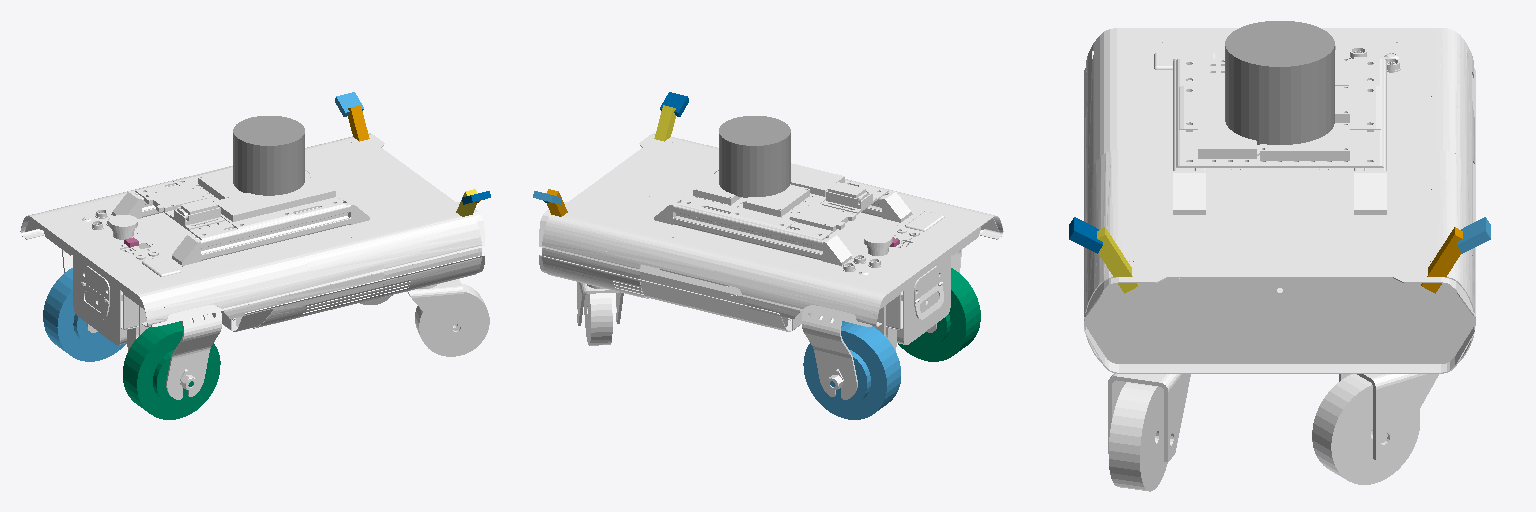
The robot description file, URDF, robot "neor":
<?xml version="1.0" encoding="utf-8"?>
<!-- This URDF was automatically created by SolidWorks to URDF Exporter! Originally created by [author] ([email redacted]) 
     Commit Version: 1.5.1-0-g916b5db  Build Version: 1.5.7152.31018
     For more information, please see http://wiki.ros.org/sw_urdf_exporter -->
<robot
  name="neor">
  <link 
    name="base_link">
    <inertial>
      <origin
        xyz="0.167879507365628 -0.00359252647980702 0.119298610168138"
        rpy="0 0 0" />
      <mass
        value="1.99769813489116" />
      <inertia
        ixx="0.00884194890576968"
        ixy="-2.85763205109085E-07"
        ixz="1.13692269308844E-06"
        iyy="0.0122849475045731"
        iyz="2.62546849263556E-05"
        izz="0.0198557145704335" />
    </inertial>
    <visual>
      <origin
        xyz="0 0 0"
        rpy="0 0 0" />
      <geometry>
        <mesh
          filename="package://neor/meshes/base_link.STL" />
      </geometry>
      <material
        name="">
        <color
          rgba="1 1 1 1" />
      </material>
    </visual>
    <collision>
      <origin
        xyz="0 0 0"
        rpy="0 0 0" />
      <geometry>
        <mesh
          filename="package://neor/meshes/base_link.STL" />
      </geometry>
    </collision>
  </link>
  <link
    name="left_wheel_link">
    <inertial>
      <origin
        xyz="0 2.77555756156289E-17 6.93889390390723E-18"
        rpy="0 0 0" />
      <mass
        value="5.42406230688666" />
      <inertia
        ixx="0.00666461186501377"
        ixy="-4.34780728173011E-17"
        ixz="-3.46065314223795E-08"
        iyy="0.0108754737237616"
        iyz="1.48898597957356E-17"
        izz="0.00666462264232009" />
    </inertial>
    <visual>
      <origin
        xyz="0 0 0"
        rpy="0 0 0" />
      <geometry>
        <mesh
          filename="package://neor/meshes/left_wheel_link.STL" />
      </geometry>

    </visual>
    <collision>
      <origin
        xyz="0 0 0"
        rpy="0 0 0" />
      <geometry>
        <mesh
          filename="package://neor/meshes/left_wheel_link.STL" />
      </geometry>
    </collision>
  </link>
  <joint
    name="left_wheel_joint"
    type="continuous">
    <origin
      xyz="0 0.11025 0"
      rpy="0 0 0" />
    <parent
      link="base_link" />
    <child
      link="left_wheel_link" />
    <axis
      xyz="0 1 0" />
    <limit
      lower="-3.14"
      upper="3.14"
      effort="0"
      velocity="0" />
  </joint>
  <link
    name="right_wheel_Link">
    <inertial>
      <origin
        xyz="1.11022302462516E-16 0 0"
        rpy="0 0 0" />
      <mass
        value="5.42406230688665" />
      <inertia
        ixx="0.00666458263690274"
        ixy="-4.33823931917284E-17"
        ixz="-5.3225217388757E-09"
        iyy="0.0108754737237616"
        iyz="1.47257298016766E-17"
        izz="0.0066646518704311" />
    </inertial>
    <visual>
      <origin
        xyz="0 0 0"
        rpy="0 0 0" />
      <geometry>
        <mesh
          filename="package://neor/meshes/right_wheel_Link.STL" />
      </geometry>
    </visual>
    <collision>
      <origin
        xyz="0 0 0"
        rpy="0 0 0" />
      <geometry>
        <mesh
          filename="package://neor/meshes/right_wheel_Link.STL" />
      </geometry>
    </collision>
  </link>
  <joint
    name="right_wheel_joint"
    type="continuous">
    <origin
      xyz="0 -0.11025 0"
      rpy="0 0 0" />
    <parent
      link="base_link" />
    <child
      link="right_wheel_Link" />
    <axis
      xyz="0 1 0" />
    <limit
      lower="-3.14"
      upper="3.14"
      effort="0"
      velocity="0" />
  </joint>
  <link
    name="left_caster_Link">
    <inertial>
      <origin
        xyz="0.0115894835490932 -0.0160834240912808 -0.0271810314838372"
        rpy="0 0 0" />
      <mass
        value="0.0457759696915572" />
      <inertia
        ixx="4.32568497674313E-05"
        ixy="-2.58020492610068E-06"
        ixz="4.86678404730977E-06"
        iyy="4.49782650453277E-05"
        iyz="-6.75393340776466E-06"
        izz="4.36074022403523E-05" />
    </inertial>
    <visual>
      <origin
        xyz="0 0 0"
        rpy="0 0 0" />
      <geometry>
        <mesh
          filename="package://neor/meshes/left_caster_Link.STL" />
      </geometry>
      <material
        name="">
        <color
          rgba="1 1 1 1" />
      </material>
    </visual>
    <collision>
      <origin
        xyz="0 0 0"
        rpy="0 0 0" />
      <geometry>
        <mesh
          filename="package://neor/meshes/left_caster_Link.STL" />
      </geometry>
    </collision>
  </link>
  <joint
    name="left_caster_joint"
    type="continuous">
    <origin
      xyz="0.4006 0.1125 0.0465"
      rpy="0 0 0" />
    <parent
      link="base_link" />
    <child
      link="left_caster_Link" />
    <axis
      xyz="0 0 -1" />
    <limit
      lower="-3.14"
      upper="3.14"
      effort="0"
      velocity="0" />
  </joint>
  <link
    name="left_caster_wheel_Link">
    <inertial>
      <origin
        xyz="0 1.38777878078145E-17 0"
        rpy="0 0 0" />
      <mass
        value="0.232226528953357" />
      <inertia
        ixx="0.000250095566342319"
        ixy="6.15717679394067E-05"
        ixz="2.21629952945565E-19"
        iyy="0.000209016281398468"
        iyz="1.5657790917171E-19"
        izz="0.00016464860902793" />
    </inertial>
    <visual>
      <origin
        xyz="0 0 0"
        rpy="0 0 0" />
      <geometry>
        <mesh
          filename="package://neor/meshes/left_caster_wheel_Link.STL" />
      </geometry>
      <material
        name="">
        <color
          rgba="1 1 1 1" />
      </material>
    </visual>
    <collision>
      <origin
        xyz="0 0 0"
        rpy="0 0 0" />
      <geometry>
        <mesh
          filename="package://neor/meshes/left_caster_wheel_Link.STL" />
      </geometry>
    </collision>
  </link>
  <joint
    name="left_caster_wheel_joint"
    type="continuous">
    <origin
      xyz="0.024532 -0.034044 -0.066"
      rpy="0 0 0" />
    <parent
      link="left_caster_Link" />
    <child
      link="left_caster_wheel_Link" />
    <axis
      xyz="-0.81131 -0.58462 0" />
  </joint>
  <link
    name="right_caster_Link">
    <inertial>
      <origin
        xyz="0.0188041520422844 -0.00627670432990625 -0.0271810284056899"
        rpy="0 0 0" />
      <mass
        value="0.0457759516780475" />
      <inertia
        ixx="4.62921637504073E-05"
        ixy="-1.63379166334245E-06"
        ixz="7.89645340975582E-06"
        iyy="4.194292119082E-05"
        iyz="-2.6357777730359E-06"
        izz="4.36073573670601E-05" />
    </inertial>
    <visual>
      <origin
        xyz="0 0 0"
        rpy="0 0 0" />
      <geometry>
        <mesh
          filename="package://neor/meshes/right_caster_Link.STL" />
      </geometry>
      <material
        name="">
        <color
          rgba="1 1 1 1" />
      </material>
    </visual>
    <collision>
      <origin
        xyz="0 0 0"
        rpy="0 0 0" />
      <geometry>
        <mesh
          filename="package://neor/meshes/right_caster_Link.STL" />
      </geometry>
    </collision>
  </link>
  <joint
    name="right_caster_joint"
    type="continuous">
    <origin
      xyz="0.4006 -0.1125 0.0465"
      rpy="0 0 0" />
    <parent
      link="base_link" />
    <child
      link="right_caster_Link" />
    <axis
      xyz="0 0 -1" />
    <limit
      lower="-3.14"
      upper="3.14"
      effort="0"
      velocity="0" />
  </joint>
  <link
    name="right_caster_wheel_Link">
    <inertial>
      <origin
        xyz="-5.55111512312578E-17 0 0"
        rpy="0 0 0" />
      <mass
        value="0.232226528953358" />
      <inertia
        ixx="0.00017766232401311"
        ixy="3.89873545385007E-05"
        ixz="1.36110275740017E-19"
        iyy="0.000281449523727678"
        iyz="4.07814885635416E-19"
        izz="0.000164648609027931" />
    </inertial>
    <visual>
      <origin
        xyz="0 0 0"
        rpy="0 0 0" />
      <geometry>
        <mesh
          filename="package://neor/meshes/right_caster_wheel_Link.STL" />
      </geometry>
      <material
        name="">
        <color
          rgba="1 1 1 1" />
      </material>
    </visual>
    <collision>
      <origin
        xyz="0 0 0"
        rpy="0 0 0" />
      <geometry>
        <mesh
          filename="package://neor/meshes/right_caster_wheel_Link.STL" />
      </geometry>
    </collision>
  </link>
  <joint
    name="right_caster_wheel_joint"
    type="continuous">
    <origin
      xyz="0.039803 -0.013286 -0.066"
      rpy="0 0 0" />
    <parent
      link="right_caster_Link" />
    <child
      link="right_caster_wheel_Link" />
    <axis
      xyz="-0.31662 -0.94855 0" />
  </joint>
 
  <!--  手动添加激光雷达模型 -->
  <link name="laser_link">
    <visual>
      <geometry>
        <cylinder length="0.08" radius="0.05"/>
      </geometry>
    </visual>
  </link>
  <joint name ="2Dlaser_joints" type="fixed">
    <origin xyz="0.22 0.0 0.23" rpy="0.0 0.0 0.0"/>
    <parent link="base_link"/>
    <child link="laser_link"/>
  </joint>
<!--*********************************************************************-->
 
 <!--  手动添加摄像头模型 左侧   -->
<link name="L_camerabase_link">
    <visual>
      <geometry>
        <box size="0.015 0.0165 0.06"/>
      </geometry>
    </visual>
  </link>
  <joint name ="L_camerabase_joints" type="fixed">
    <origin xyz="0.45 0.15 0.16" rpy="0.0 0.53 1.57"/>
    <parent link="base_link"/>
    <child link="L_camerabase_link"/>
  </joint>

  <link name="L_camera0_link">
    <visual>
      <geometry>
        <box size="0.01 0.03 0.03"/>
      </geometry>
    </visual>
  </link>
  <joint name ="L_camera0_joints" type="fixed">
    <origin xyz="0.01 0.0 0.035" rpy="0.0 0.53 0.0"/>
    <parent link="L_camerabase_link"/>
    <child link="L_camera0_link"/>
  </joint>
  <link name="L_camera_link">
    <visual>
      <geometry>
        <sphere radius="0.005" />
      </geometry>
    </visual>
  </link>
  <joint name ="L_camera_joints" type="fixed">
    <origin xyz="0.003 0.0 0.0" rpy="0.0 0.0 0.0"/>
    <parent link="L_camera0_link"/>
    <child link="L_camera_link"/>
  </joint>
<!--*********************************************************************-->

 <!--  手动添加摄像头模型 右侧   -->
<link name="R_camerabase_link">
    <visual>
      <geometry>
        <box size="0.015 0.0165 0.06"/>
      </geometry>
    </visual>
  </link>
  <joint name ="R_camerabase_joints" type="fixed">
    <origin xyz="0.45 -0.15 0.16" rpy="0.0 0.53 -1.57"/>
    <parent link="base_link"/>
    <child link="R_camerabase_link"/>
  </joint>

  <link name="R_camera0_link">
    <visual>
      <geometry>
        <box size="0.01 0.03 0.03"/>
      </geometry>
    </visual>
  </link>
  <joint name ="R_camera0_joints" type="fixed">
    <origin xyz="0.01 0.0 0.035" rpy="0.0 0.53 0.0"/>
    <parent link="R_camerabase_link"/>
    <child link="R_camera0_link"/>
  </joint>
  <link name="R_camera_link">
    <visual>
      <geometry>
        <sphere radius="0.005" />
      </geometry>
    </visual>
  </link>
  <joint name ="R_camera_joints" type="fixed">
    <origin xyz="0.003 0.0 0.0" rpy="0.0 0.0 0.0"/>
    <parent link="R_camera0_link"/>
    <child link="R_camera_link"/>
  </joint>
<!--*********************************************************************-->

  <!--  手动添加imu模型   -->
  <link name="imu_link">
    <visual>
      <geometry>
        <box size="0.015 0.015 0.007"/>
      </geometry>
    </visual>
  </link>
  <joint name ="imu_joints" type="fixed">
    <origin xyz="0.0 0.0 0.15" rpy="0.0 0.0 0.0"/>
    <parent link="base_link"/>
    <child link="imu_link"/>
  </joint>
<!--*********************************************************************-->

 <!--为link配置颜色-->
  <gazebo reference="base_link">
    <material>Gazebo/DarkYellow</material>      <!--  (Yellow) (YellowGlow) (YellowTransparent)  (ZincYellow) (Yellow) (DarkYellow) -->
  </gazebo>

  <gazebo reference="right_caster_Link">
    <material>Gazebo/Black</material>
  </gazebo>

  <gazebo reference="left_caster_Link">
    <material>Gazebo/Black</material>
  </gazebo>

  <gazebo reference="left_caster_wheel_Link">
    <material>Gazebo/Grey</material>
  </gazebo>

  <gazebo reference="right_caster_wheel_Link">
    <material>Gazebo/Grey</material>
  </gazebo>
  
  <gazebo reference="left_wheel_link">
    <material>Gazebo/Grey</material>
  </gazebo>

  <gazebo reference="right_wheel_Link">
    <material>Gazebo/Grey</material>
  </gazebo>

  <gazebo reference="laser_link">
    <material>Gazebo/Black</material>
  </gazebo>

  <!--    L camera link gazebo color -->
  <gazebo reference="L_camerabase_link">   
    <material>Gazebo/DarkYellow</material>
  </gazebo>

  <gazebo reference="L_camera0_link">   
    <material>Gazebo/SkyBlue</material>
  </gazebo>

  <gazebo reference="L_camera_link">   
    <material>Gazebo/Black</material>
  </gazebo>
  <!--    L camera link gazebo color -->

  <!-- R camera Link gazebo color -->
  <gazebo reference="R_camerabase_link">   
    <material>Gazebo/DarkYellow</material>
  </gazebo>

  <gazebo reference="R_camera0_link">   
    <material>Gazebo/SkyBlue</material>
  </gazebo>

  <gazebo reference="R_camera_link">   
    <material>Gazebo/Black</material>
  </gazebo>
  <!-- R camera Link gazebo color -->

  <gazebo reference="imu_link">
    <material>Gazebo/SkyBlue</material>
  </gazebo>
<!--*********************************************************************-->

<!--为机器人的关节 joint 添加传动机构-->>
  <transmission name="simple_trans_left_Back">
    <type>transmission_interface/SimpleTransmission</type>
    <joint name="left_wheel_joint">
      <hardwareInterface>EffortJointInterface</hardwareInterface>
    </joint>
    <actuator name="left_wheel_motor">
      <mechanicalReduction>50</mechanicalReduction>
      <hardwareInterface>EffortJointInterface</hardwareInterface>
    </actuator>
  </transmission>

  <transmission name="simple_trans_right_Back">
    <type>transmission_interface/SimpleTransmission</type>
    <joint name="right_wheel_jont">
      <hardwareInterface>EffortJointInterface</hardwareInterface>
    </joint>
    <actuator name="right_wheel_motor">
      <mechanicalReduction>50</mechanicalReduction>
      <hardwareInterface>EffortJointInterface</hardwareInterface>
    </actuator>
  </transmission>
<!--*********************************************************************-->

<!--为机器人添加差速控制插件-->  
  <gazebo>
    <plugin name="differential_drive_controller_left" filename="libgazebo_ros_diff_drive.so">
      <rosDebugLevel>Debug</rosDebugLevel>
      <publishWheelTF>true</publishWheelTF>
      <robotNamespace>/</robotNamespace>
      <publishTf>10</publishTf>
      <publishWheelJointState>true</publishWheelJointState>
      <alwaysOn>true</alwaysOn>
      <updateRate>100.0</updateRate>
      <legacyMode>true</legacyMode>
      <leftJoint>left_wheel_joint</leftJoint>
      <rightJoint>right_wheel_joint</rightJoint>
      <wheelSeparation>0.24</wheelSeparation>
      <wheelDiameter>0.14</wheelDiameter>
      <publishOdomTF>true</publishOdomTF>
      <wheelTorque>30</wheelTorque>
      <wheelAcceleration>0.15</wheelAcceleration>
      <commandTopic>cmd_vel</commandTopic>
      <odometryFrame>odom</odometryFrame> 
      <odometryTopic>odom</odometryTopic> 
      <odometrySource>1</odometrySource>
      <robotBaseFrame>base_link</robotBaseFrame>
    </plugin>
  </gazebo> 
<!--*********************************************************************-->


  <!-- 手动添加camera仿真插件  L-->
  <gazebo reference="L_camera_link">
    <sensor type="camera" name="L_camera">
      <update_rate>30.0</update_rate>
      <camera name="head">
        <horizontal_fov>2.0</horizontal_fov>
        <image>
          <width>640</width>
          <height>480</height>
          <format>R8G8B8</format>
        </image>
        <clip>
          <near>0.02</near>
          <far>50</far>
        </clip>
        <noise>
          <type>gaussian</type>
          <!-- Noise is sampled independently per pixel on each frame.
               That pixel's noise value is added to each of its color
               channels, which at that point lie in the range [0,1]. -->
          <mean>0.0</mean>
          <stddev>0.007</stddev>
        </noise>
      </camera>
      <plugin name="camera_controller" filename="libgazebo_ros_camera.so">
        <alwaysOn>true</alwaysOn>
        <updateRate>0.0</updateRate>
        <cameraName>L_camera</cameraName>
        <imageTopicName>L_image_raw</imageTopicName>
        <cameraInfoTopicName>L_camera_info</cameraInfoTopicName>
        <frameName>L_camera__link</frameName>
        <hackBaseline>0.07</hackBaseline>
        <distortionK1>0.0</distortionK1>
        <distortionK2>0.0</distortionK2>
        <distortionK3>0.0</distortionK3>
        <distortionT1>0.0</distortionT1>
        <distortionT2>0.0</distortionT2>
      </plugin>
    </sensor>
  </gazebo>
<!--*********************************************************************-->
  <!-- 手动添加camera仿真插件  R-->
  <gazebo reference="R_camera_link">
    <sensor type="camera" name="R_camera">
      <update_rate>30.0</update_rate>
      <camera name="head">
        <horizontal_fov>2.0</horizontal_fov>
        <image>
          <width>640</width>
          <height>480</height>
          <format>R8G8B8</format>
        </image>
        <clip>
          <near>0.02</near>
          <far>50</far>
        </clip>
        <noise>
          <type>gaussian</type>
          <!-- Noise is sampled independently per pixel on each frame.
               That pixel's noise value is added to each of its color
               channels, which at that point lie in the range [0,1]. -->
          <mean>0.0</mean>
          <stddev>0.007</stddev>
        </noise>
      </camera>
      <plugin name="camera_controller" filename="libgazebo_ros_camera.so">
        <alwaysOn>true</alwaysOn>
        <updateRate>0.0</updateRate>
        <cameraName>R_camera</cameraName>
        <imageTopicName>R_image_raw</imageTopicName>
        <cameraInfoTopicName>R_camera_info</cameraInfoTopicName>
        <frameName>R_camera_link</frameName>
        <hackBaseline>0.07</hackBaseline>
        <distortionK1>0.0</distortionK1>
        <distortionK2>0.0</distortionK2>
        <distortionK3>0.0</distortionK3>
        <distortionT1>0.0</distortionT1>
        <distortionT2>0.0</distortionT2>
      </plugin>
    </sensor>
  </gazebo>
<!--*********************************************************************-->

  <!-- 手动添加深激光雷达仿真插件  -->
  <gazebo reference="laser_link">
    <sensor type="ray" name="head_laser_sensor">
      <pose>0 0 0 0 0 0</pose>
      <visualize>false</visualize>
      <update_rate>40</update_rate>
      <ray>
        <scan>
          <horizontal>
            <samples>720</samples>
            <resolution>1</resolution>
            <min_angle>-1.570796</min_angle>
            <max_angle>1.570796</max_angle>
          </horizontal>
        </scan>
        <range>
          <min>0.10</min>
          <max>30.0</max>
          <resolution>0.01</resolution>
        </range>
        <noise>
          <type>gaussian</type>
          <!-- Noise parameters based on published spec for Hokuyo laser
               achieving "+-30mm" accuracy at range < 10m.  A mean of 0.0m and
               stddev of 0.01m will put 99.7% of samples within 0.03m of the true
               reading. -->
          <mean>0.0</mean>
          <stddev>0.01</stddev>
        </noise>
      </ray>
      <plugin name="gazebo_ros_head_laser_controller" filename="libgazebo_ros_laser.so">
        <topicName>scan</topicName>
        <frameName>laser_link</frameName>
      </plugin>
    </sensor>
  </gazebo>
  
<!--*********************************************************************-->


  <!-- 手动添加imu仿真插件  -->
  <gazebo reference="imu_link">
    <gravity>true</gravity>
    <sensor name="imu_sensor" type="imu">
      <always_on>true</always_on>
      <update_rate>100</update_rate>
      <visualize>true</visualize>
      <topic>__default_topic__</topic>
      <plugin filename="libgazebo_ros_imu_sensor.so" name="imu_plugin">
        <topicName>imu</topicName>
        <bodyName>imu_link</bodyName>
        <updateRateHZ>10.0</updateRateHZ>
        <gaussianNoise>0.0</gaussianNoise>
        <xyzOffset>0 0 0</xyzOffset>
        <rpyOffset>0 0 0</rpyOffset>
        <frameName>imu_link</frameName>
        <initialOrientationAsReference>false</initialOrientationAsReference>
      </plugin>
      <pose>0 0 0 0 0 0</pose>
    </sensor>
  </gazebo>
  
<!--*********************************************************************-->

 

</robot>

--- What the picture shows (computed from the rendered views, not written in the file) ---
3 views of the same robot in one strip: view 1: azimuth 30°, elevation 25°; view 2: azimuth 150°, elevation 25°; view 3: azimuth 270°, elevation 25° (orthographic).
Model neor with 15 links and 14 joints (6 continuous, 8 fixed), rooted at base_link, posed every joint at zero.
Visible links, largest first — view 1: base_link, laser_link, right_wheel_Link, left_wheel_link, right_caster_wheel_Link, right_caster_Link; view 2: base_link, laser_link, left_wheel_link, right_wheel_Link, left_caster_wheel_Link, left_caster_Link; view 3: base_link, laser_link, left_caster_wheel_Link, right_caster_wheel_Link, left_caster_Link, right_caster_Link, L_camerabase_link, R_camerabase_link, L_camera0_link, R_camera0_link.
Boxes of the visible links, box(x1,y1,x2,y2) form: base_link: box(20, 133, 484, 399); laser_link: box(233, 116, 304, 195); right_wheel_Link: box(123, 321, 220, 419); left_wheel_link: box(43, 268, 126, 361); right_caster_wheel_Link: box(415, 283, 489, 356); right_caster_Link: box(407, 279, 463, 340); base_link: box(539, 133, 1003, 399); laser_link: box(719, 116, 790, 197); left_wheel_link: box(803, 321, 900, 419); right_wheel_Link: box(898, 268, 980, 361); left_caster_wheel_Link: box(584, 293, 612, 345); left_caster_Link: box(577, 282, 623, 325); base_link: box(1084, 28, 1475, 373); laser_link: box(1225, 21, 1334, 144); left_caster_wheel_Link: box(1312, 374, 1419, 484); right_caster_wheel_Link: box(1109, 382, 1167, 491); left_caster_Link: box(1339, 374, 1438, 459); right_caster_Link: box(1108, 373, 1190, 461); L_camerabase_link: box(1421, 227, 1462, 293); R_camerabase_link: box(1097, 227, 1138, 293); L_camera0_link: box(1457, 217, 1490, 253); R_camera0_link: box(1069, 217, 1102, 253).
Bounding box of the posed robot: 0.5688 × 0.3837 × 0.3395 m (x, y, z).
Meshes: 7 distinct files referenced, 7 mesh visuals loaded (7 binary STL).
